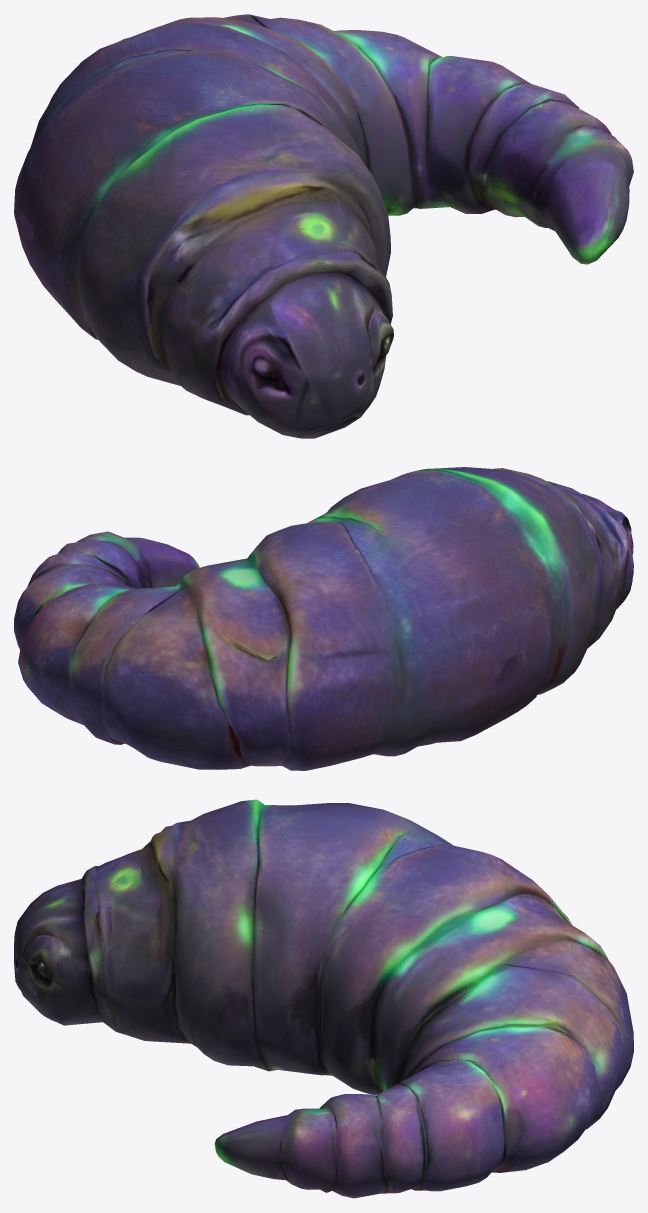
Rendered from swarm_larva.glb.
3 views of the same model, one above another, from view 1: azimuth 30°, elevation 25°; view 2: azimuth 150°, elevation 25°; view 3: azimuth 270°, elevation 25° (orthographic). The views are drawn at different scales.
Size of the model in its own units: 1.89 by 0.8123 by 2.
Materials: 1 (1 with a texture image).
